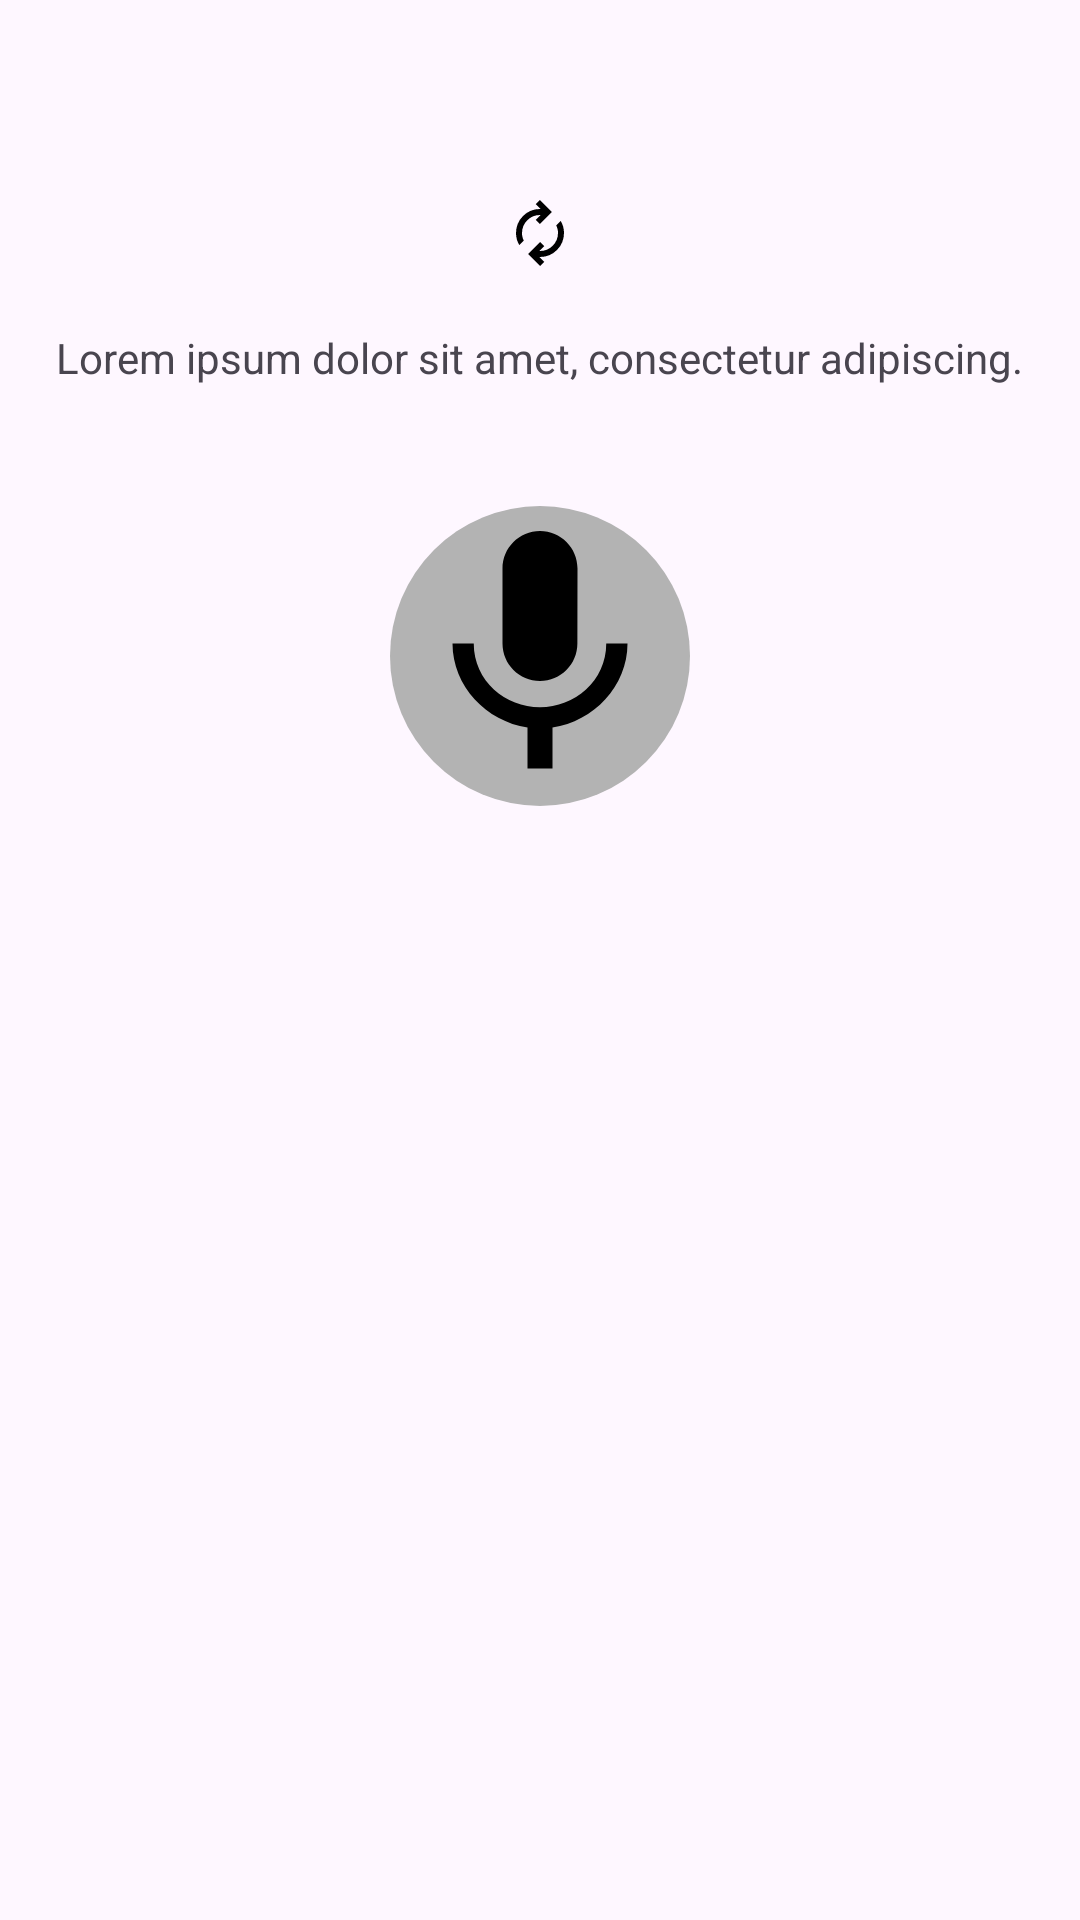

Named icons in this screenshot (1080 x 1920) and their centers, (x=x, y=y):
Record: (x=540, y=656)
refresh: (x=540, y=233)
